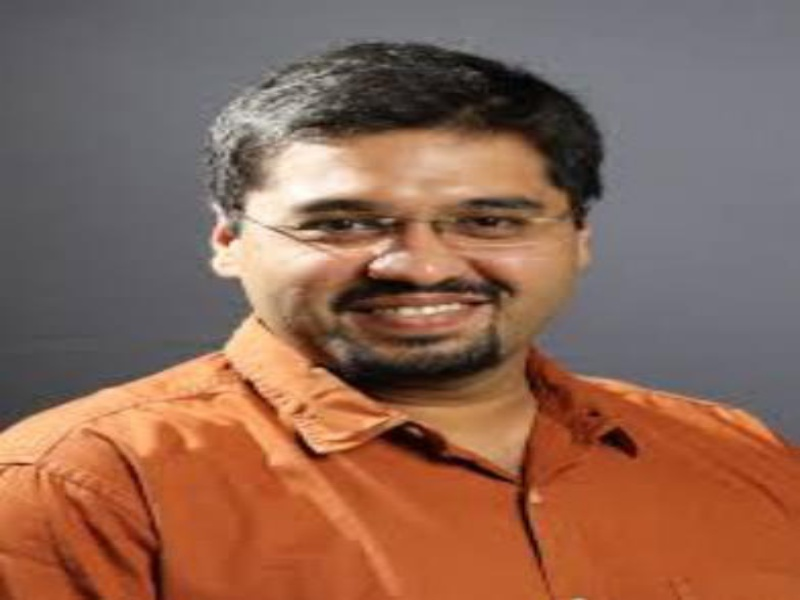TsisyArotava: (197, 58, 620, 395)
